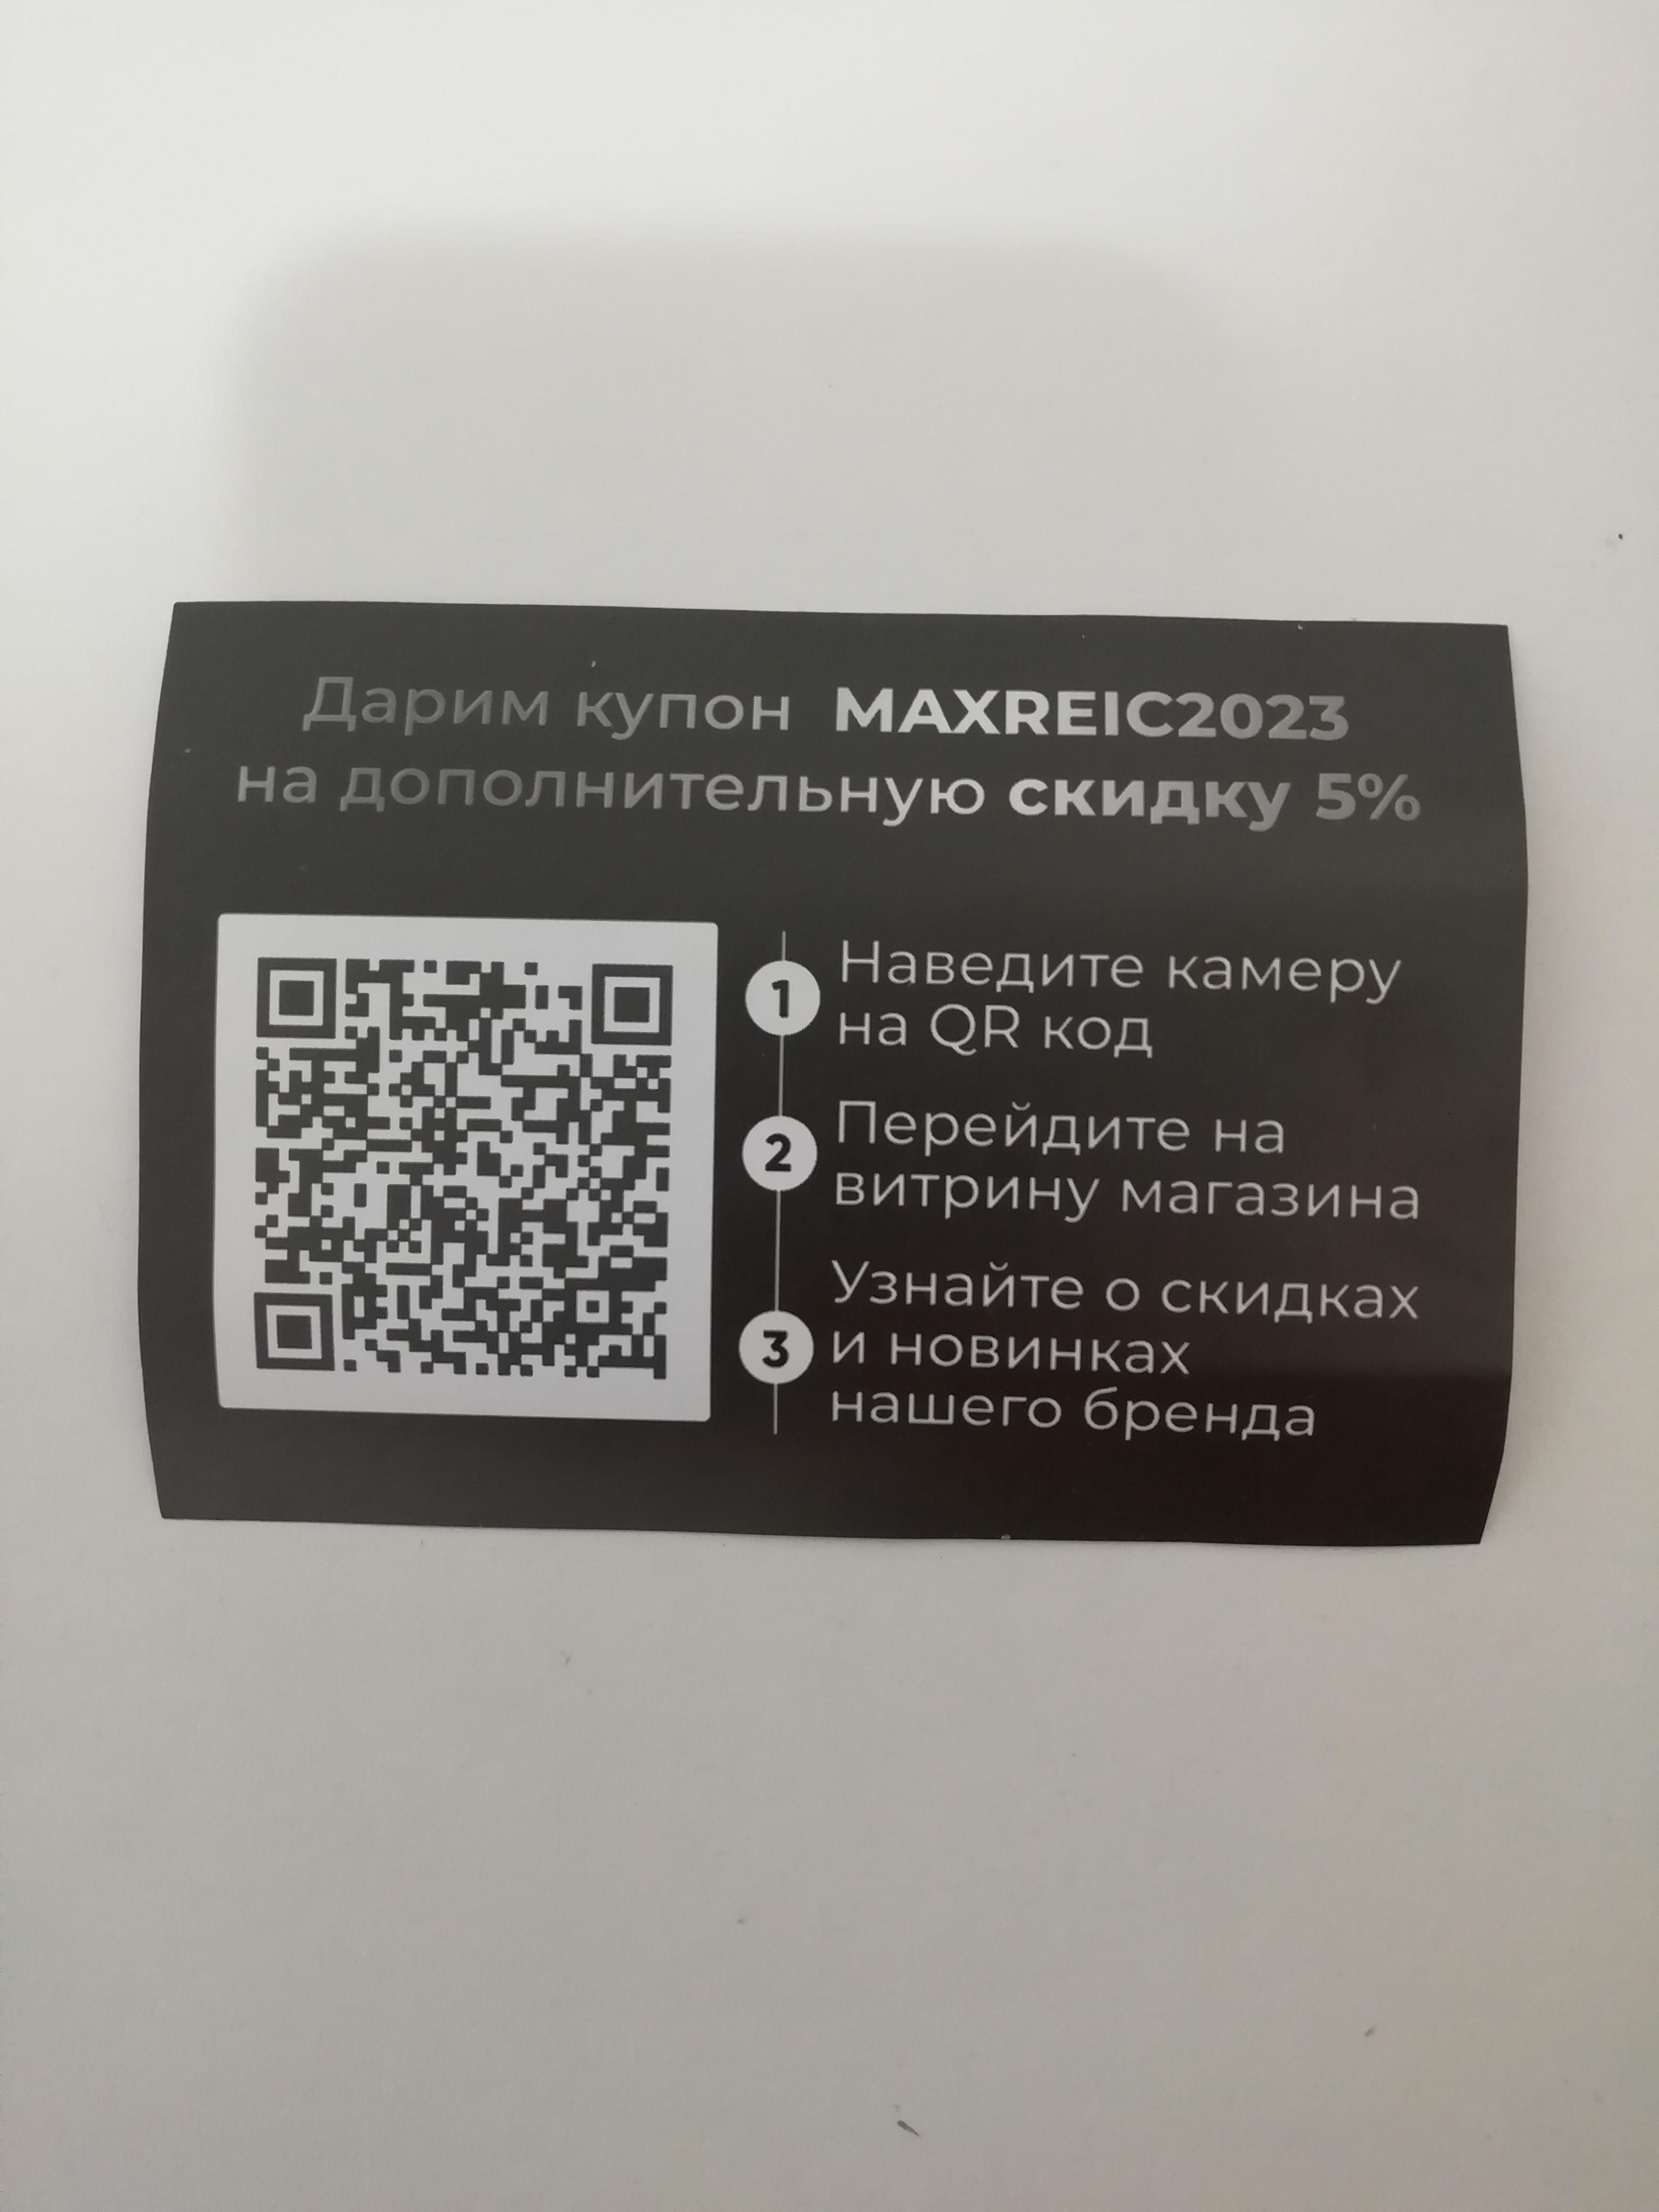qrcode: (253, 954, 676, 1381)
